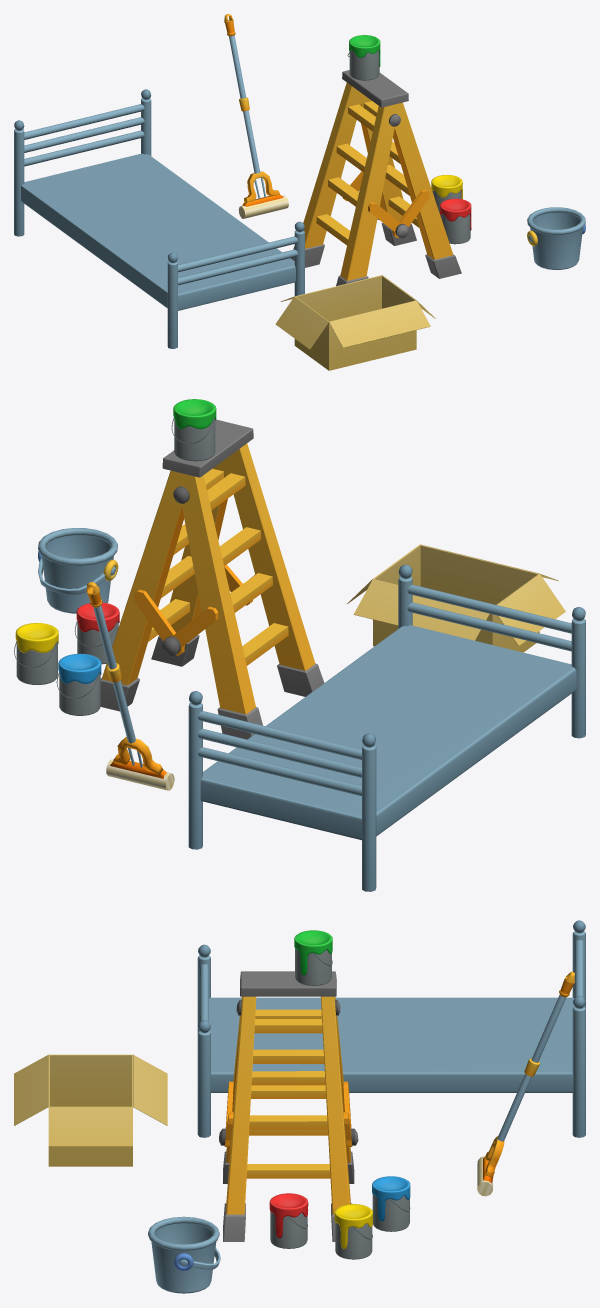
Rendered from old_furniture.fbx.
3 views of the same model, one above another, from view 1: azimuth 30°, elevation 25°; view 2: azimuth 150°, elevation 25°; view 3: azimuth 270°, elevation 25° (orthographic). The views are drawn at different scales.
Visible parts, largest first — view 1: bed1, ladder1, polySurface127, bucket, polySurface126, mop, polySurface128, paint_bucket1, paint_bucket, paint_bucket2; view 2: bed1, ladder1, polySurface127, bucket, mop, polySurface130, paint_bucket1, paint_bucket3, paint_bucket2, polySurface128, paint_bucket; view 3: bed1, ladder1, polySurface127, bucket, polySurface129, mop, paint_bucket, paint_bucket2, paint_bucket3, paint_bucket1, polySurface126, polySurface130.
Part boxes in pixels (box(x1,y1,x2,y2)): bed1: box(14, 89, 304, 348); ladder1: box(290, 70, 461, 286); polySurface127: box(294, 275, 416, 370); bucket: box(527, 207, 585, 269); polySurface126: box(329, 300, 430, 347); mop: box(224, 14, 288, 218); polySurface128: box(275, 297, 328, 349); paint_bucket1: box(347, 35, 380, 80); paint_bucket: box(440, 198, 471, 244); paint_bucket2: box(431, 175, 462, 215); bed1: box(188, 564, 585, 891); ladder1: box(100, 419, 324, 739); polySurface127: box(373, 545, 539, 652); bucket: box(38, 528, 118, 613); mop: box(86, 582, 174, 790); polySurface130: box(353, 579, 489, 640); paint_bucket1: box(171, 399, 216, 461); paint_bucket3: box(56, 653, 101, 715); paint_bucket2: box(14, 623, 58, 684); polySurface128: box(497, 574, 565, 645); paint_bucket: box(74, 602, 119, 664); bed1: box(197, 920, 585, 1137); ladder1: box(219, 971, 358, 1241); polySurface127: box(48, 1055, 132, 1166); bucket: box(148, 1216, 220, 1293); polySurface129: box(48, 1107, 132, 1146); mop: box(477, 971, 574, 1196); paint_bucket: box(269, 1193, 308, 1248); paint_bucket2: box(334, 1204, 372, 1259); paint_bucket3: box(372, 1176, 410, 1231); paint_bucket1: box(294, 930, 332, 985); polySurface126: box(14, 1054, 48, 1125); polySurface130: box(133, 1054, 167, 1125).
Bounding box in the file's own units: 47.11 × 24.3 × 47.01.
